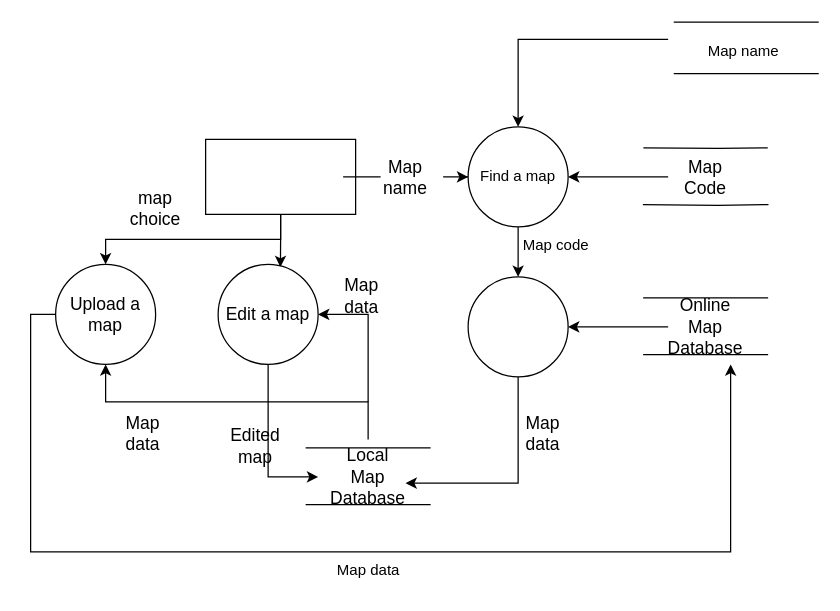
This 840x611 diagram has some shape labels left out. Here are the shapes that lost their labels. From the top down, the box of each, then its label:
(204, 138, 356, 214): Player
(467, 276, 568, 377): Download a map
